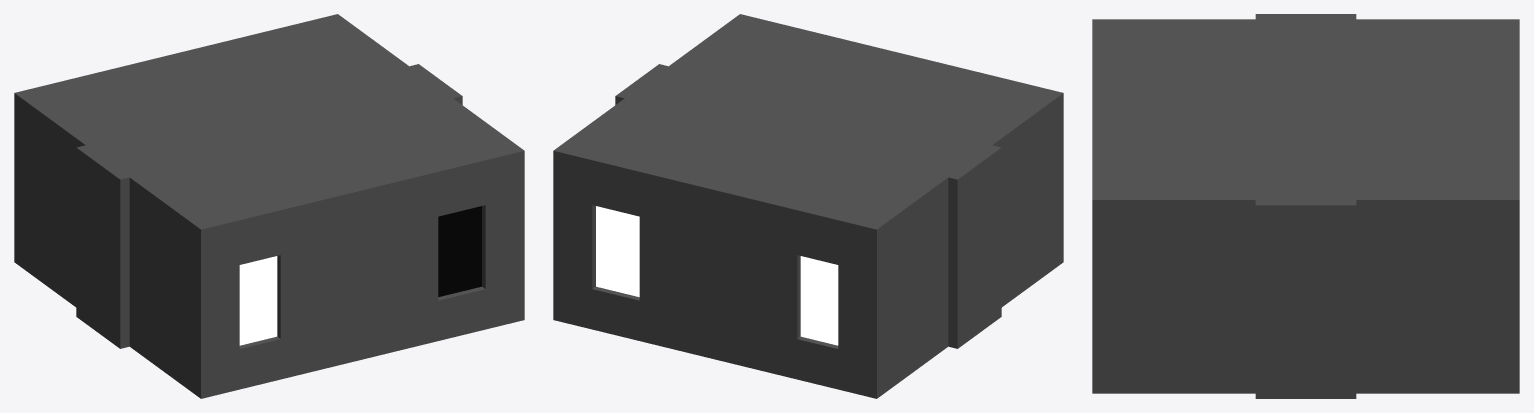
File: Immeuble1Milieu.fbx
3 views of the same model, side by side, from view 1: azimuth 30°, elevation 25°; view 2: azimuth 150°, elevation 25°; view 3: azimuth 270°, elevation 25° (orthographic). The views are drawn at different scales.
Parts seen in each view (by area): view 1: Cube.002; view 2: Cube.002; view 3: Cube.002.
Part boxes in pixels (x1,y1,x2,y2): Cube.002: [14, 14, 524, 398]; Cube.002: [553, 14, 1063, 398]; Cube.002: [1092, 14, 1519, 398].
Bounding box in the file's own units: 2116 × 1000 × 2000.
